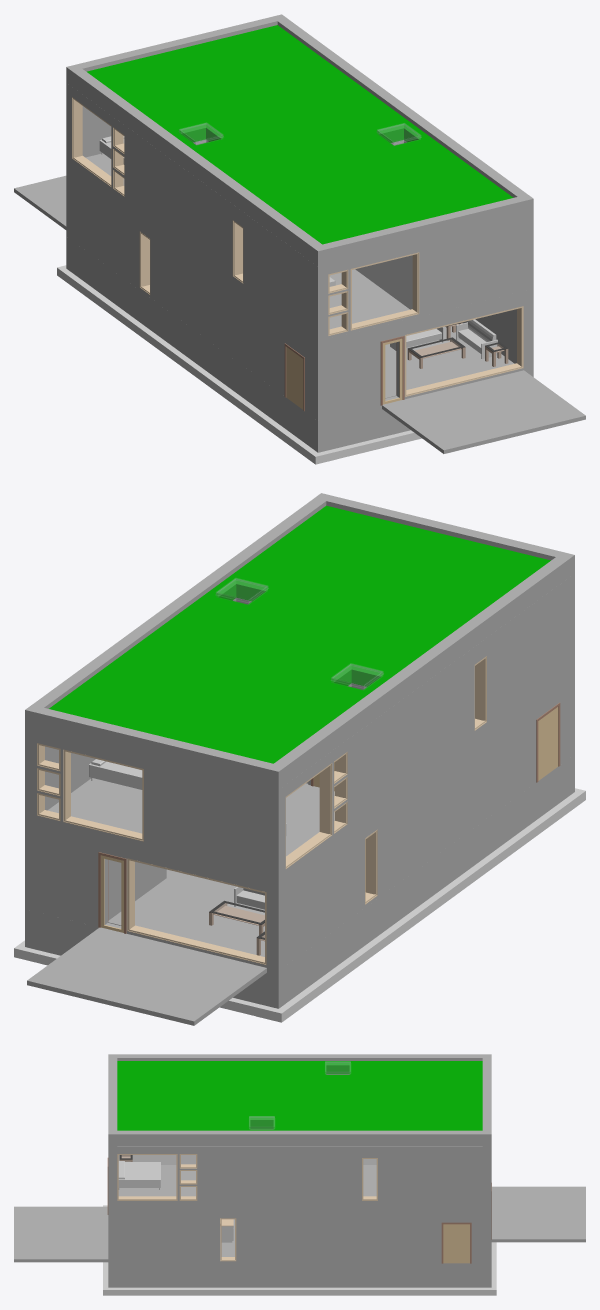
Rendered from duplex.glb.
The picture shows the model from 3 angles, top to bottom: view 1: azimuth 30°, elevation 25°; view 2: azimuth 150°, elevation 25°; view 3: azimuth 270°, elevation 25°; orthographic projection. The views are drawn at different scales.
Parts seen in each view (by area): view 1: 3ThA22djr8AQQ9eQMA5s7I, 2O2Fr$t4X7Zf8NOew3FNqI, 2O2Fr$t4X7Zf8NOew3FLR9, 2O2Fr$t4X7Zf8NOew3FLOH, 1CZILmCaHETO8tf3SgGEXu, 2O2Fr$t4X7Zf8NOew3FK9N, 2O2Fr$t4X7Zf8NOew3FNr2, 0jf0rYHfX3RAB3bSIRjmpw, 0jf0rYHfX3RAB3bSIRjmoa, 0kF45Qs8L9PAM9kmb1lT5d, 0jf0rYHfX3RAB3bSIRjmr1, 2OBrcmyk58NupXoVOHUtxr (+18 smaller); view 2: 3ThA22djr8AQQ9eQMA5s7I, 2O2Fr$t4X7Zf8NOew3FNqI, 2O2Fr$t4X7Zf8NOew3FLR9, 2O2Fr$t4X7Zf8NOew3FLQD, 1CZILmCaHETO8tf3SgGEWh, 2O2Fr$t4X7Zf8NOew3FNtn, 2O2Fr$t4X7Zf8NOew3FK9N, 0jf0rYHfX3RAB3bSIRjmpw, 0jf0rYHfX3RAB3bSIRjmmy, 2OBrcmyk58NupXoVOHUtgP, 0kF45Qs8L9PAM9kmb1lT5d, 0jf0rYHfX3RAB3bSIRjmr1 (+15 smaller); view 3: 3ThA22djr8AQQ9eQMA5s7I, 2O2Fr$t4X7Zf8NOew3FNhv, 2O2Fr$t4X7Zf8NOew3FLPP, 2O2Fr$t4X7Zf8NOew3FKE5, 0jf0rYHfX3RAB3bSIRjmr1, 1CZILmCaHETO8tf3SgGEXu, 1CZILmCaHETO8tf3SgGEWh, 0kF45Qs8L9PAM9kmb1lT5t, 0jf0rYHfX3RAB3bSIRjmpw, 2OBrcmyk58NupXoVOHUt8F, 2OBrcmyk58NupXoVOHUtHN, 1hOSvn6df7F8_7GcBWlRH8_primitive1 (+10 smaller).
Boxes of the visible parts, <box> form: 3ThA22djr8AQQ9eQMA5s7I: <box>87,25,513,244</box>; 2O2Fr$t4X7Zf8NOew3FNqI: <box>72,161,328,420</box>; 2O2Fr$t4X7Zf8NOew3FLR9: <box>66,83,317,340</box>; 2O2Fr$t4X7Zf8NOew3FLOH: <box>318,214,533,341</box>; 1CZILmCaHETO8tf3SgGEXu: <box>382,370,585,453</box>; 2O2Fr$t4X7Zf8NOew3FK9N: <box>72,241,328,452</box>; 2O2Fr$t4X7Zf8NOew3FNr2: <box>328,289,533,418</box>; 0jf0rYHfX3RAB3bSIRjmpw: <box>72,69,328,266</box>; 0jf0rYHfX3RAB3bSIRjmoa: <box>323,194,533,264</box>; 0kF45Qs8L9PAM9kmb1lT5d: <box>57,265,337,464</box>; 0jf0rYHfX3RAB3bSIRjmr1: <box>277,18,527,197</box>; 2OBrcmyk58NupXoVOHUtxr: <box>385,326,514,398</box>; 3ThA22djr8AQQ9eQMA5s7I: <box>49,505,550,763</box>; 2O2Fr$t4X7Zf8NOew3FNqI: <box>285,661,574,965</box>; 2O2Fr$t4X7Zf8NOew3FLR9: <box>278,573,574,877</box>; 2O2Fr$t4X7Zf8NOew3FLQD: <box>25,728,278,877</box>; 1CZILmCaHETO8tf3SgGEWh: <box>27,927,266,1025</box>; 2O2Fr$t4X7Zf8NOew3FNtn: <box>25,816,285,970</box>; 2O2Fr$t4X7Zf8NOew3FK9N: <box>285,754,574,1003</box>; 0jf0rYHfX3RAB3bSIRjmpw: <box>274,552,574,784</box>; 0jf0rYHfX3RAB3bSIRjmmy: <box>25,705,285,789</box>; 2OBrcmyk58NupXoVOHUtgP: <box>108,869,264,956</box>; 0kF45Qs8L9PAM9kmb1lT5d: <box>255,788,585,1022</box>; 0jf0rYHfX3RAB3bSIRjmr1: <box>32,498,326,708</box>; 3ThA22djr8AQQ9eQMA5s7I: <box>117,1061,482,1130</box>; 2O2Fr$t4X7Zf8NOew3FNhv: <box>117,1203,482,1263</box>; 2O2Fr$t4X7Zf8NOew3FLPP: <box>108,1146,491,1202</box>; 2O2Fr$t4X7Zf8NOew3FKE5: <box>117,1263,482,1287</box>; 0jf0rYHfX3RAB3bSIRjmr1: <box>117,1130,482,1145</box>; 1CZILmCaHETO8tf3SgGEXu: <box>14,1206,108,1262</box>; 1CZILmCaHETO8tf3SgGEWh: <box>491,1186,585,1242</box>; 0kF45Qs8L9PAM9kmb1lT5t: <box>122,1281,496,1295</box>; 0jf0rYHfX3RAB3bSIRjmpw: <box>108,1054,482,1060</box>; 2OBrcmyk58NupXoVOHUt8F: <box>118,1165,195,1196</box>; 2OBrcmyk58NupXoVOHUtHN: <box>118,1161,160,1189</box>; 1hOSvn6df7F8_7GcBWlRH8_primitive1: <box>443,1224,469,1263</box>.
Size of what is drawn, in the model's own units: 9.29 by 8.19 by 26.57.
